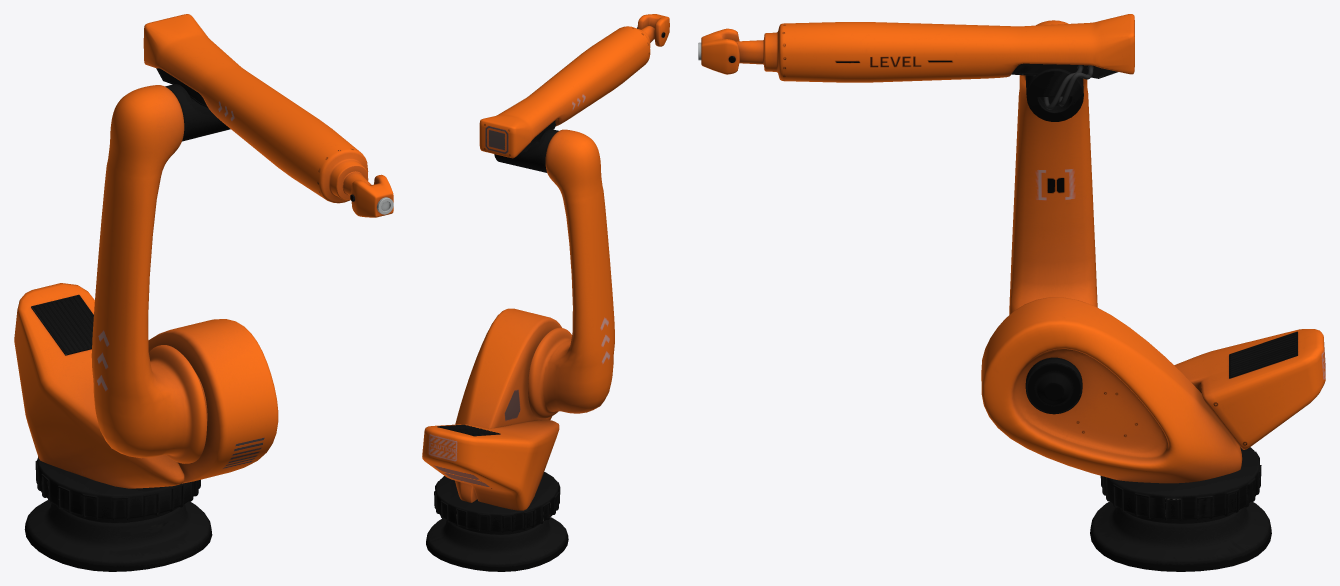
Rendered from new_robo.gltf.
3 renders of one model, left to right at view 1: azimuth 30°, elevation 25°; view 2: azimuth 150°, elevation 25°; view 3: azimuth 270°, elevation 25°, orthographic. The views are drawn at different scales.
Parts seen in each view (by area): view 1: lvl_1, lvl_2, lvl_3, Base, lvl_4; view 2: lvl_1, lvl_2, lvl_3, Base, lvl_4; view 3: lvl_1, lvl_3, lvl_2, Base, lvl_4.
Boxes of the visible parts, x1,y1,x2,y2 form: lvl_1: (14,283,278,522); lvl_2: (91,85,207,463); lvl_3: (143,14,371,203); Base: (24,500,212,571); lvl_4: (350,174,393,217); lvl_1: (422,308,561,534); lvl_2: (528,129,614,418); lvl_3: (479,26,654,172); Base: (426,517,568,571); lvl_4: (637,14,669,46); lvl_1: (981,297,1325,523); lvl_3: (736,14,1134,121); lvl_2: (1009,20,1097,414); Base: (1090,501,1271,571); lvl_4: (698,28,739,74).
Bounding box in the file's own units: 0.6383 × 2.01 × 2.19.
1 material, 1 textured.
